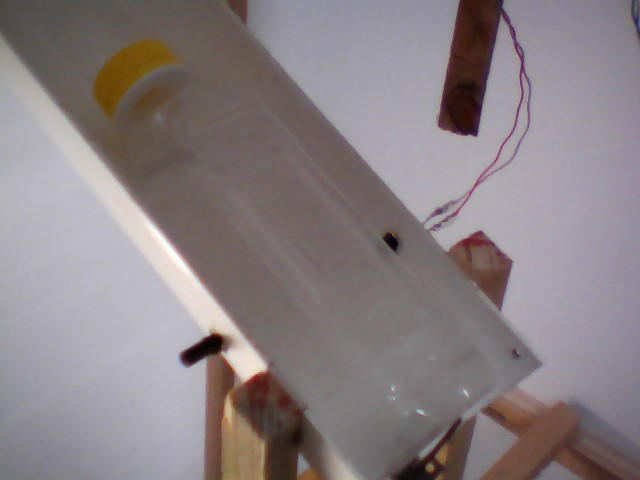plastico: (91, 28, 515, 478)
